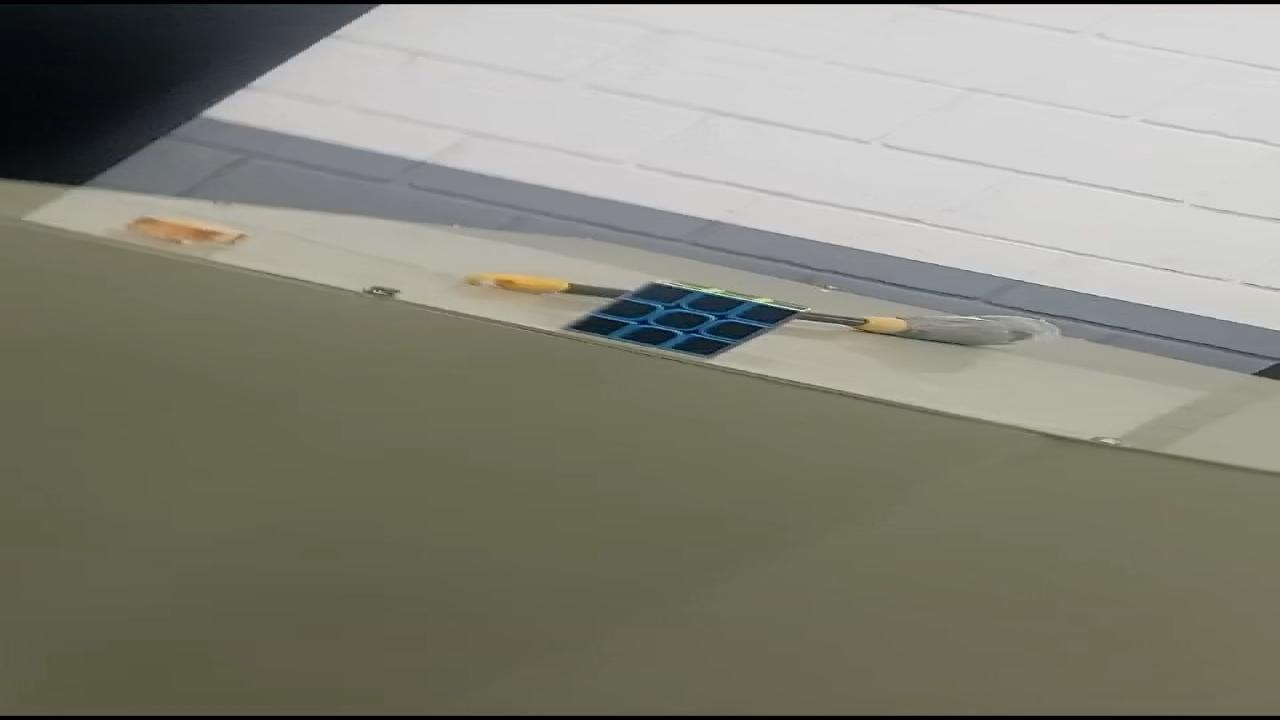Cube: (557, 278, 808, 360)
